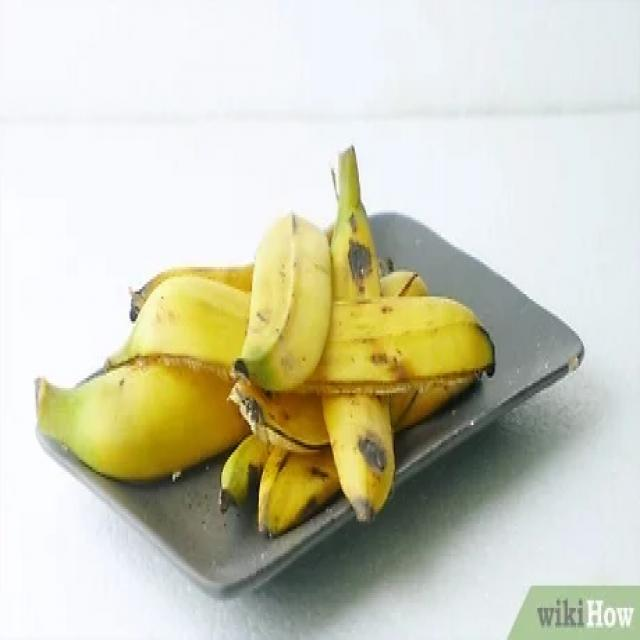Cascara de banano: (239, 135, 493, 392)
